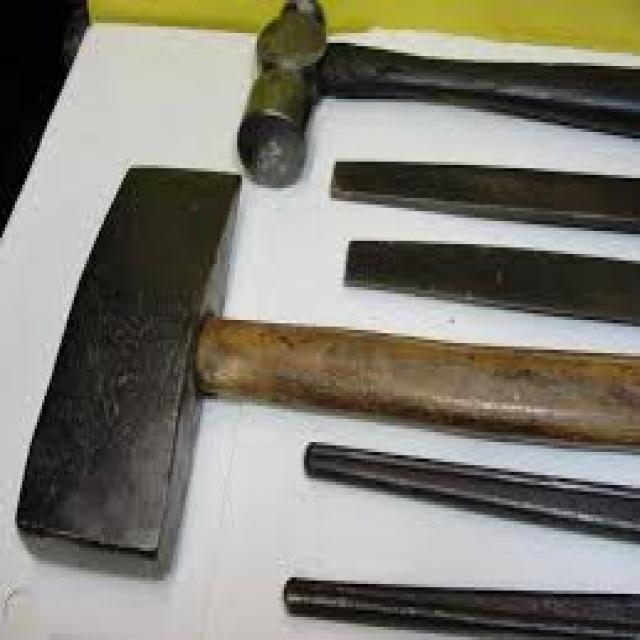hammer: (220, 0, 640, 205)
